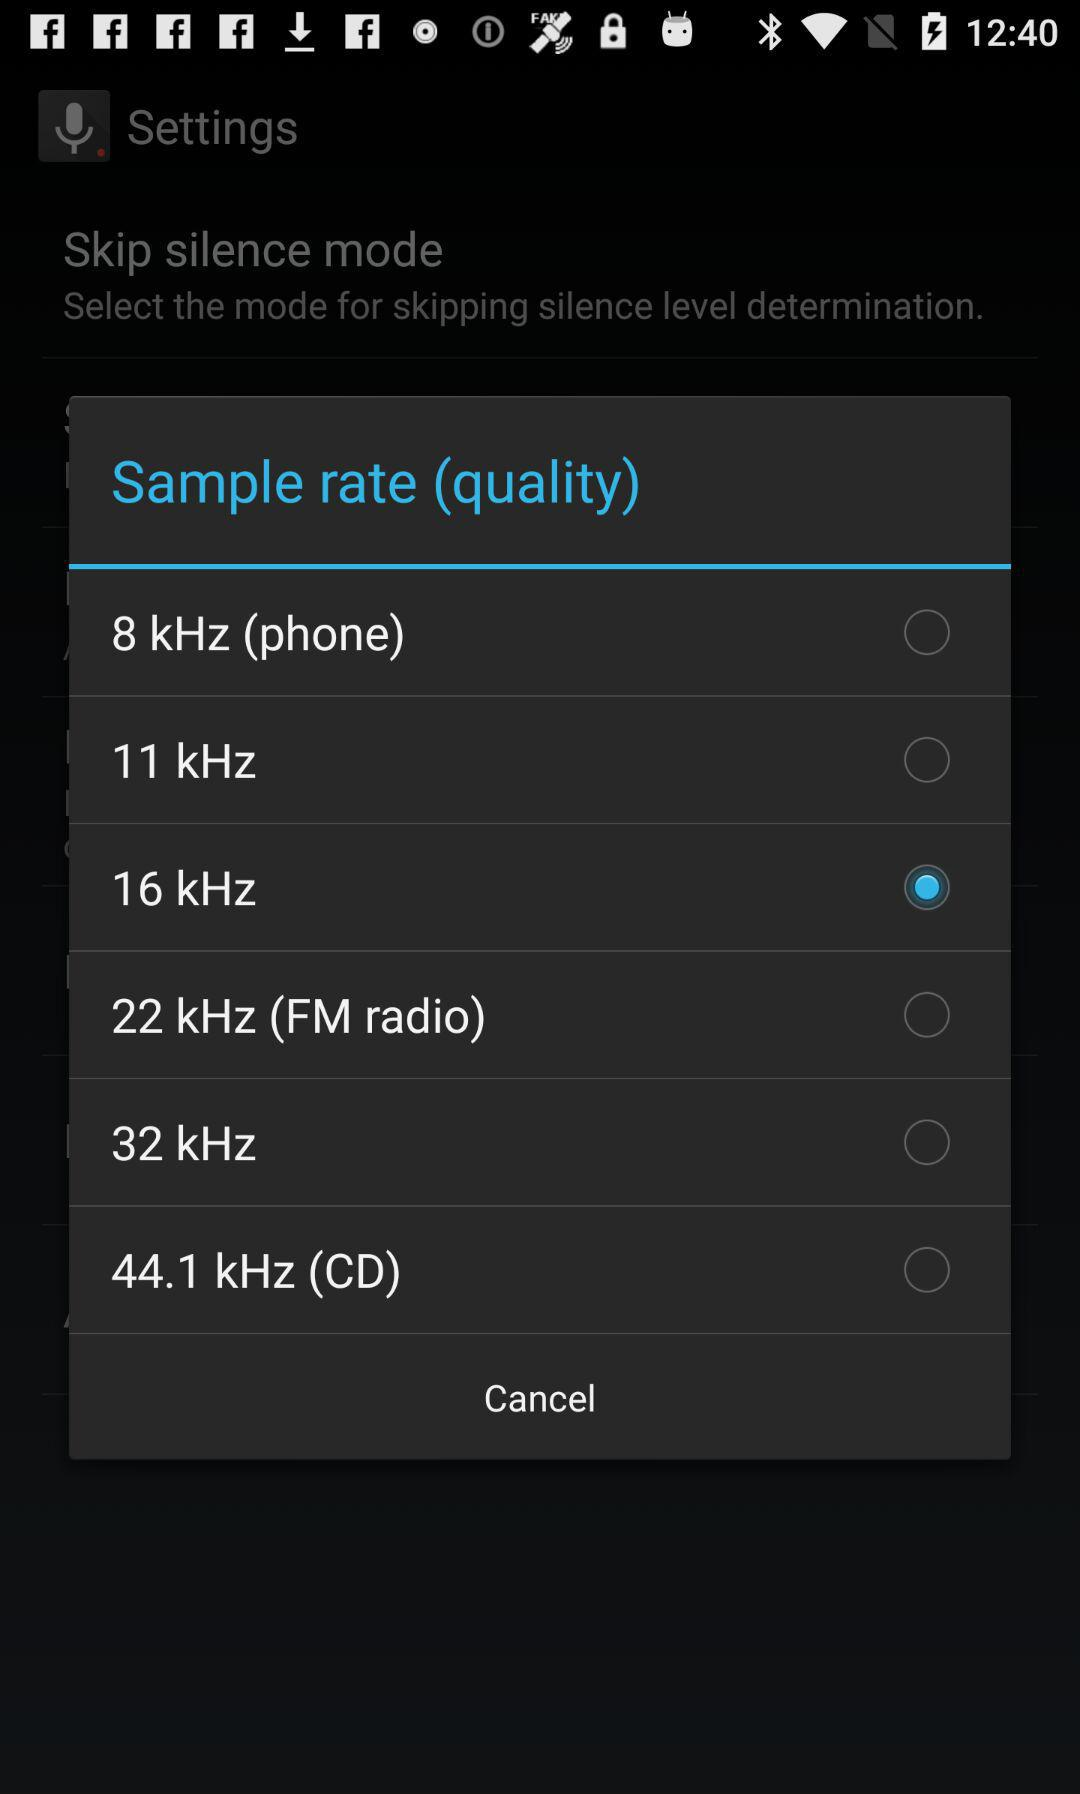CheckedTextView: (111, 992, 951, 1044), (113, 610, 951, 662), (113, 1247, 951, 1299), (114, 864, 951, 911), (115, 737, 951, 784), (113, 1119, 949, 1165)
Icon: (38, 91, 111, 164)
Modal: (70, 397, 1011, 1458)
Text: (64, 291, 983, 327), (114, 457, 641, 516), (111, 994, 486, 1044), (64, 231, 443, 278), (113, 613, 404, 662), (113, 1249, 400, 1299), (128, 110, 299, 156), (113, 1125, 258, 1162), (114, 870, 258, 907), (115, 743, 256, 779)
TextButton: (70, 1333, 1011, 1457)
UpperTaskBar: (1, 1, 1080, 64)
